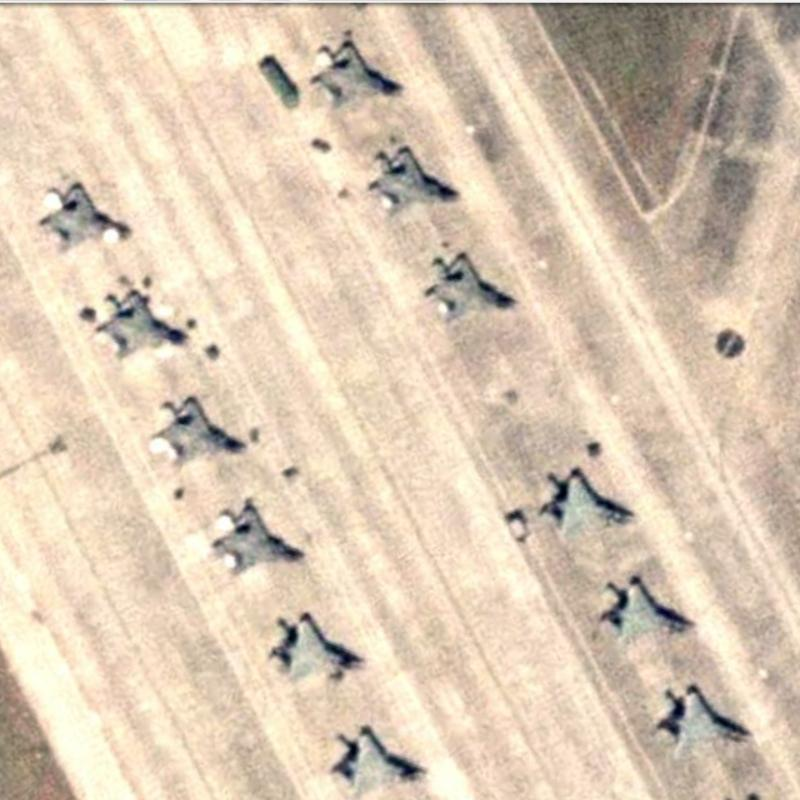A13: (255, 607, 373, 685), (653, 679, 755, 765), (323, 719, 432, 799), (529, 465, 642, 542), (592, 573, 698, 653)
A15: (131, 389, 252, 476), (299, 34, 411, 118), (203, 497, 310, 584), (31, 178, 140, 262), (79, 286, 196, 364), (359, 141, 464, 222), (420, 248, 519, 327)
